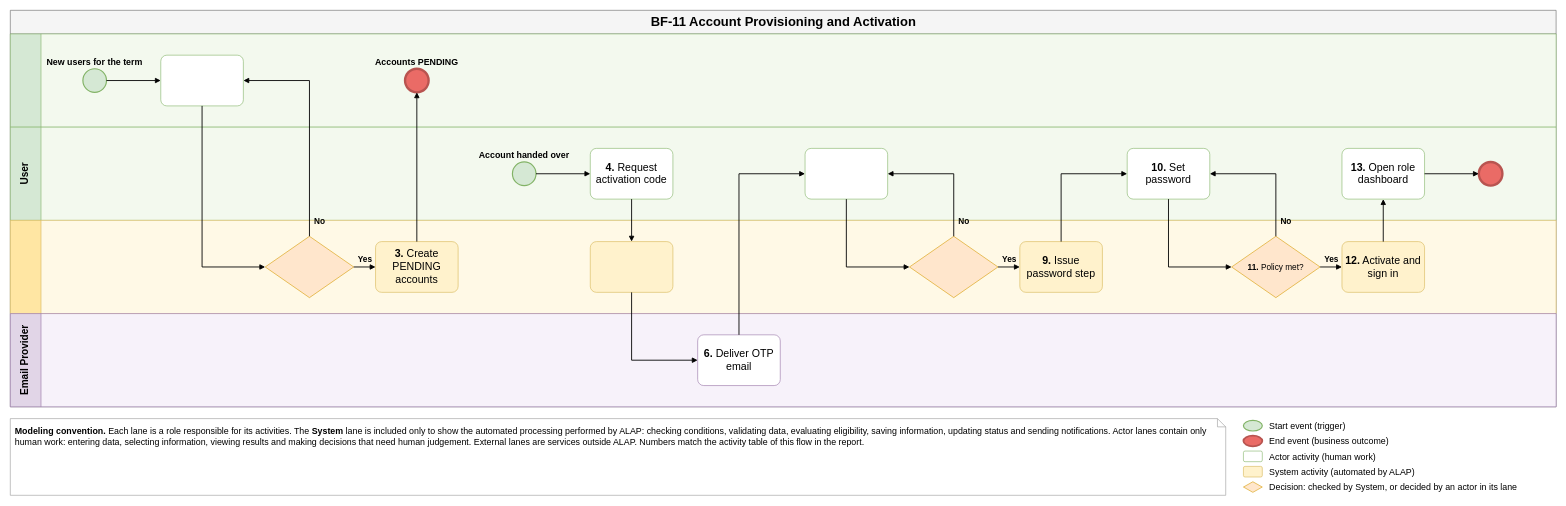
The diagram is 1566 pixels wide and 506 high, and some of its shapes have lost their labels. The box of each missing label's shape, as (x1, y1, x2, y2) in pixels:
1. Add account or import CSV: (160, 55, 243, 106)
2. Data valid?: (265, 236, 354, 298)
5. Send OTP if PENDING: (590, 241, 673, 292)
7. Enter OTP: (804, 148, 888, 199)
8. OTP valid?: (909, 236, 998, 298)
Account active: (1477, 160, 1503, 186)
Administrator: (10, 33, 1556, 127)
System: (10, 220, 1556, 314)
